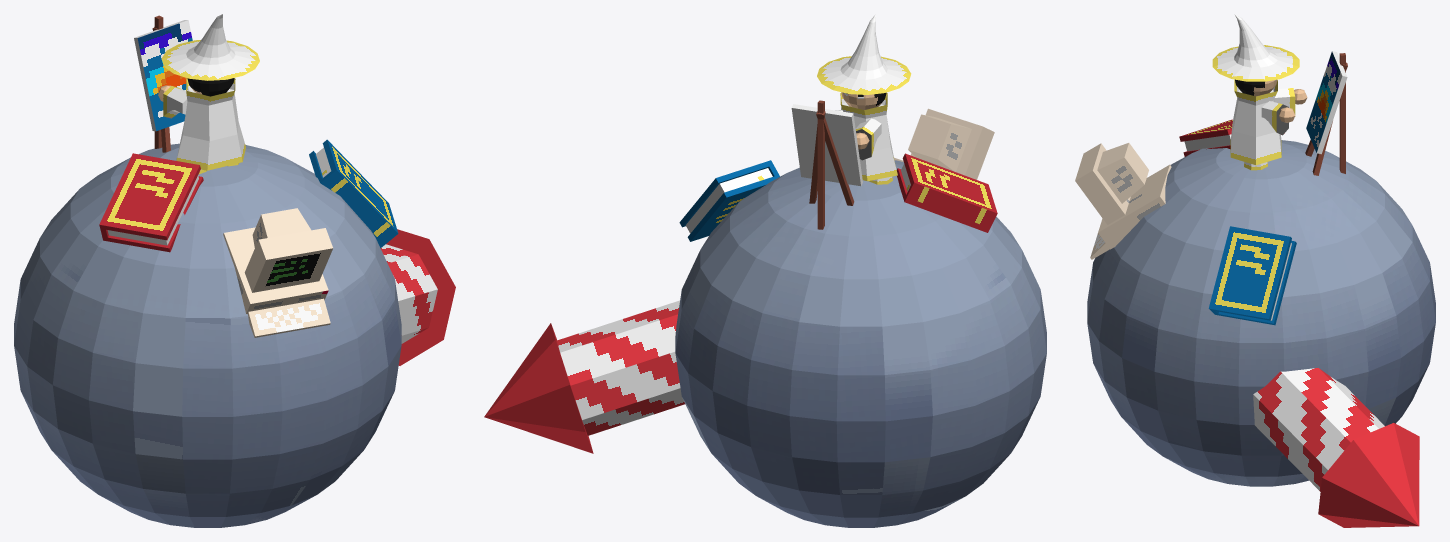
File: artPlanet.gltf
3 views of the same model, side by side, from view 1: azimuth 30°, elevation 25°; view 2: azimuth 150°, elevation 25°; view 3: azimuth 270°, elevation 25° (orthographic). The views are drawn at different scales.
Visible parts, largest first — view 1: sphere, cover_2 (×2), rocket, coat, screenFront, hat, painting, BigBox, keyboard, screenBack, back, cover_1 (+2 smaller); view 2: sphere, rocket, cover_2 (×2), hat, painting, screenBack, cover_1 (×2), coat, screenFront, back, leg_1, leg_2; view 3: sphere, rocket, cover_2 (×2), hat, coat, BigBox, painting, screenBack, screenFront, cover_1, leg_1, arm-left (+1 smaller).
Boxes of the visible parts, box(x1,y1,x2,y2) form: sphere: box(14, 143, 401, 527); cover_2 (×2): box(99, 139, 398, 240); rocket: box(380, 229, 455, 365); coat: box(176, 78, 245, 170); screenFront: box(244, 228, 333, 292); hat: box(161, 14, 259, 80); painting: box(134, 20, 192, 131); BigBox: box(223, 227, 328, 313); keyboard: box(247, 298, 330, 337); screenBack: box(252, 208, 310, 247); back: box(322, 171, 393, 244); cover_1: box(102, 176, 203, 252); sphere: box(675, 160, 1046, 527); rocket: box(484, 300, 684, 453); cover_2 (×2): box(679, 153, 997, 227); hat: box(817, 14, 911, 94); painting: box(791, 104, 862, 186); screenBack: box(908, 114, 971, 171); cover_1 (×2): box(687, 168, 989, 241); coat: box(840, 93, 897, 181); screenFront: box(910, 108, 994, 179); back: box(906, 185, 994, 227); leg_1: box(817, 100, 824, 229); leg_2: box(816, 111, 854, 205); sphere: box(1087, 140, 1435, 486); rocket: box(1253, 368, 1419, 527); cover_2 (×2): box(1179, 119, 1291, 320); hat: box(1212, 14, 1299, 81); coat: box(1230, 80, 1281, 165); BigBox: box(1098, 164, 1171, 249); painting: box(1306, 51, 1347, 154); screenBack: box(1097, 143, 1148, 203); screenFront: box(1075, 143, 1130, 224); cover_1: box(1214, 240, 1296, 325); leg_1: box(1339, 53, 1345, 173); arm-left: box(1261, 101, 1288, 135).
Bounding box in the file's own units: 5.65 × 5.78 × 4.14.
Materials: 7 (7 with a texture image).
